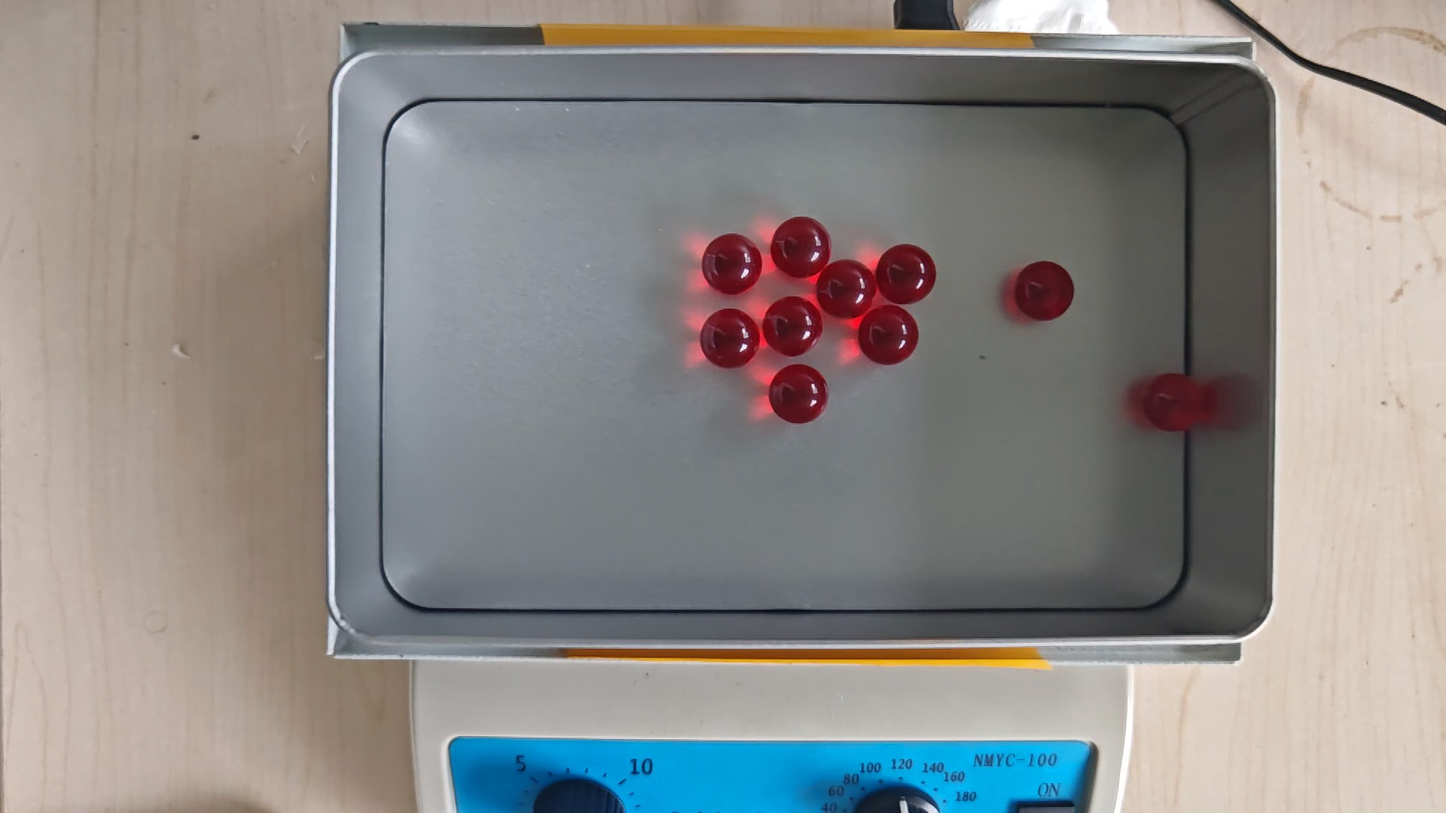ball: (1143, 372, 1205, 434), (702, 233, 762, 294), (1016, 260, 1075, 322), (701, 308, 760, 369), (769, 363, 828, 424), (772, 216, 830, 277), (878, 243, 936, 304), (860, 306, 919, 365), (817, 259, 875, 319), (765, 296, 822, 357)
container: (381, 101, 1187, 611)
